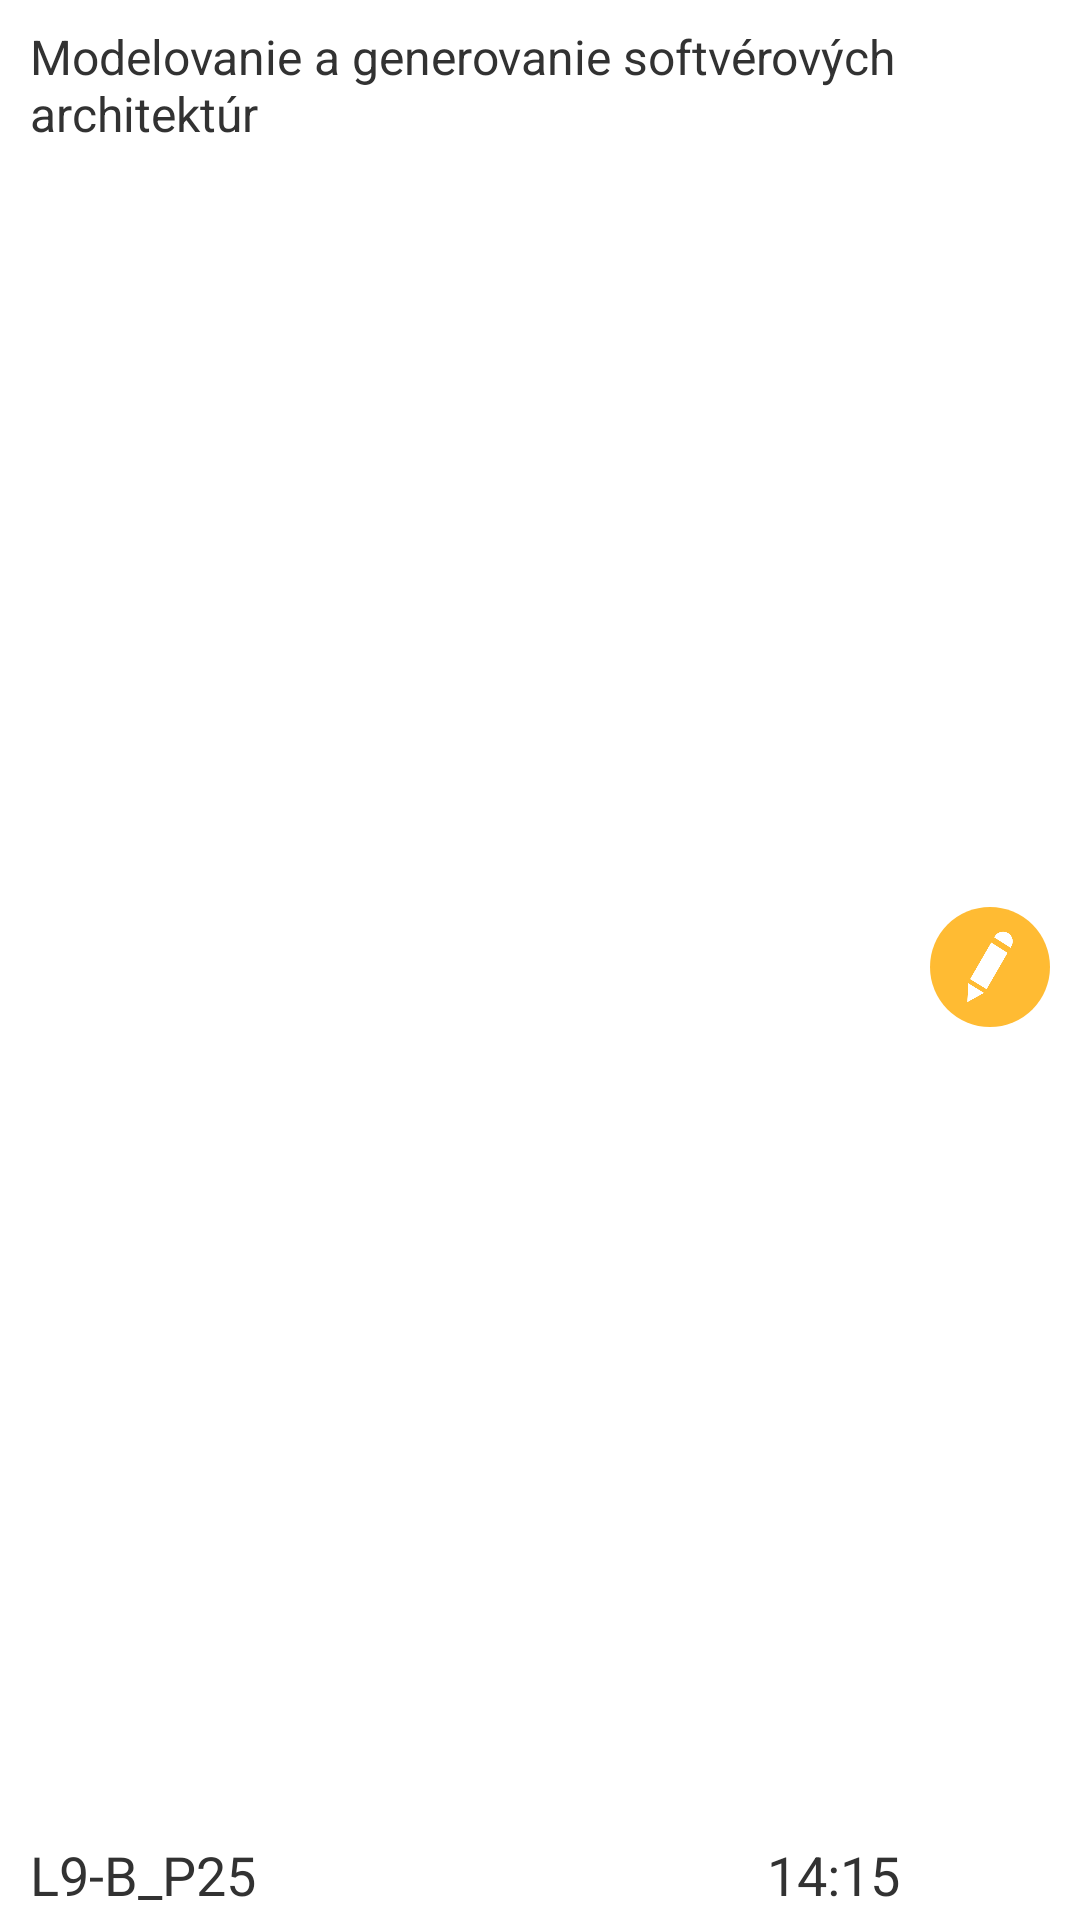

Icon bounding boxes for this 1080×1920 phone screenshot, format (x1, y1, x2, y2):
pencil: (930, 907, 1050, 1027)
